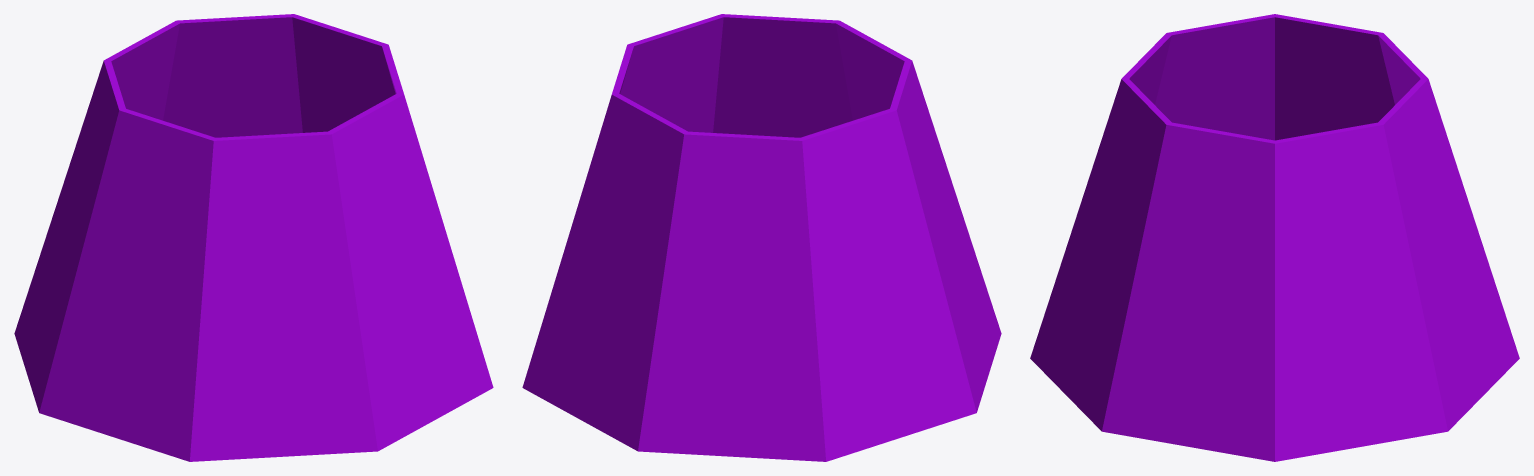
Rendered from sm_sideLamp_top.fbx.
3 views of the same model, side by side, from view 1: azimuth 30°, elevation 25°; view 2: azimuth 150°, elevation 25°; view 3: azimuth 270°, elevation 25° (orthographic).
Visible parts, largest first — view 1: polySurface119; view 2: polySurface119; view 3: polySurface119.
Boxes of the visible parts, box(x1,y1,x2,y2) form: polySurface119: box(14, 14, 493, 461); polySurface119: box(522, 14, 1001, 461); polySurface119: box(1030, 14, 1519, 461).
Size of the model in its own units: 182 by 114 by 182.
